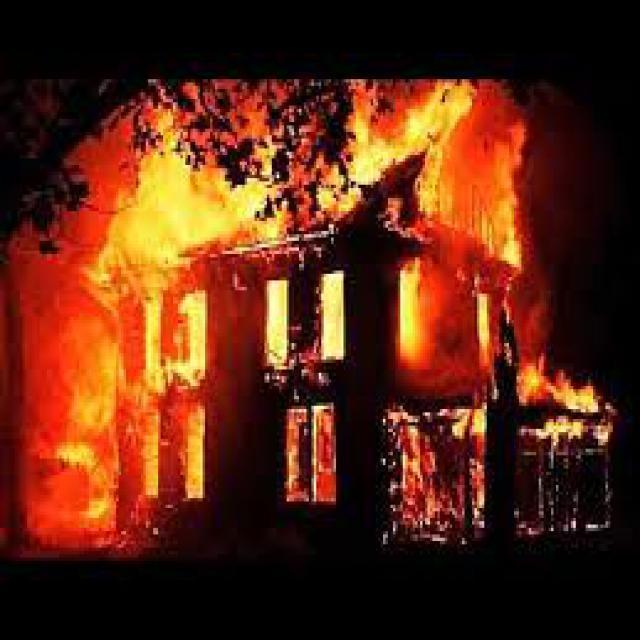Fire: (64, 112, 495, 388)
